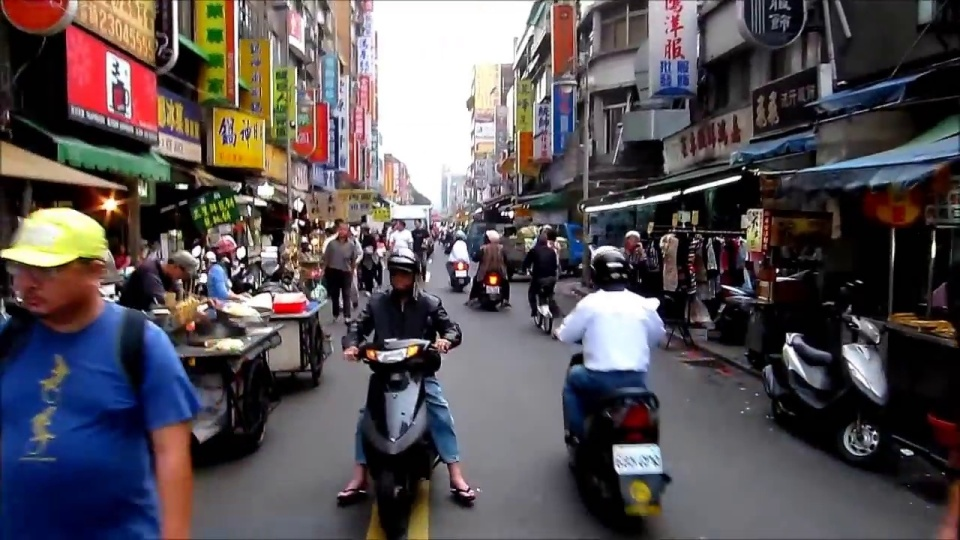person_head: (1, 205, 116, 335), (375, 246, 422, 297), (151, 240, 200, 282), (584, 247, 630, 290), (210, 230, 240, 263), (328, 216, 354, 244), (477, 224, 506, 247), (444, 224, 468, 249), (534, 230, 556, 254), (409, 213, 426, 231), (392, 215, 405, 234)
person_vbox: (0, 204, 181, 540), (328, 238, 490, 530), (555, 246, 670, 450), (116, 231, 197, 327), (194, 221, 256, 312), (315, 207, 360, 327), (465, 219, 513, 315), (520, 227, 566, 325), (403, 205, 438, 279), (436, 221, 478, 277), (384, 207, 415, 264)
